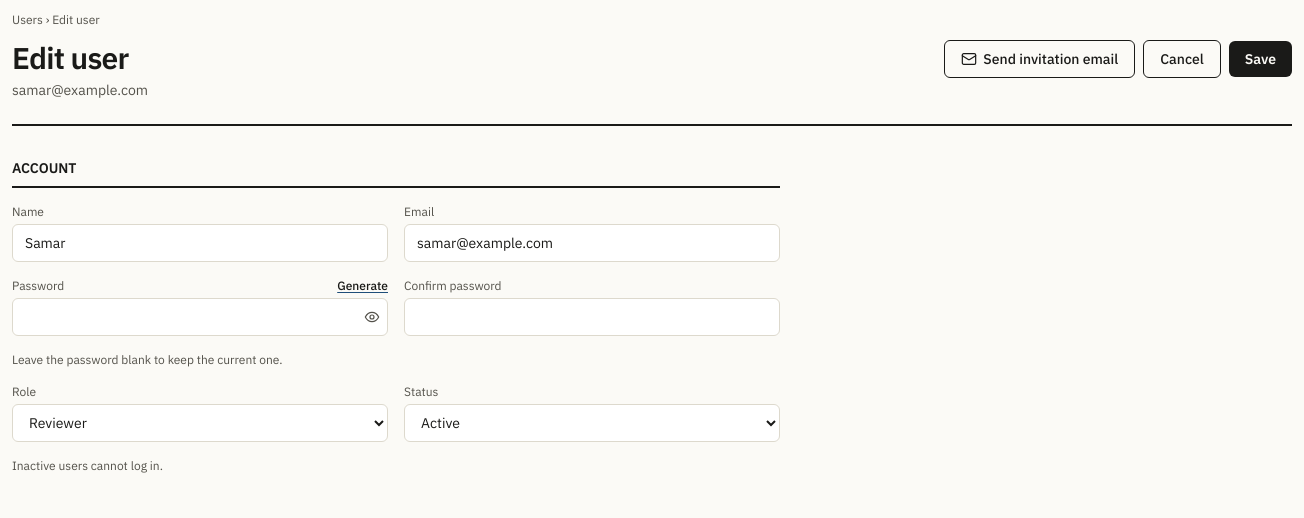
it: UserEditPage › sends a fresh invitation from edit mode and confirms it
The width and height of the screenshot is (1304, 518).
What coordinates should you click on to do the following:
click the button with test id "send-invitation-button"
I would click on:
 (1040, 59)
Its box is [944,40,1135,78].
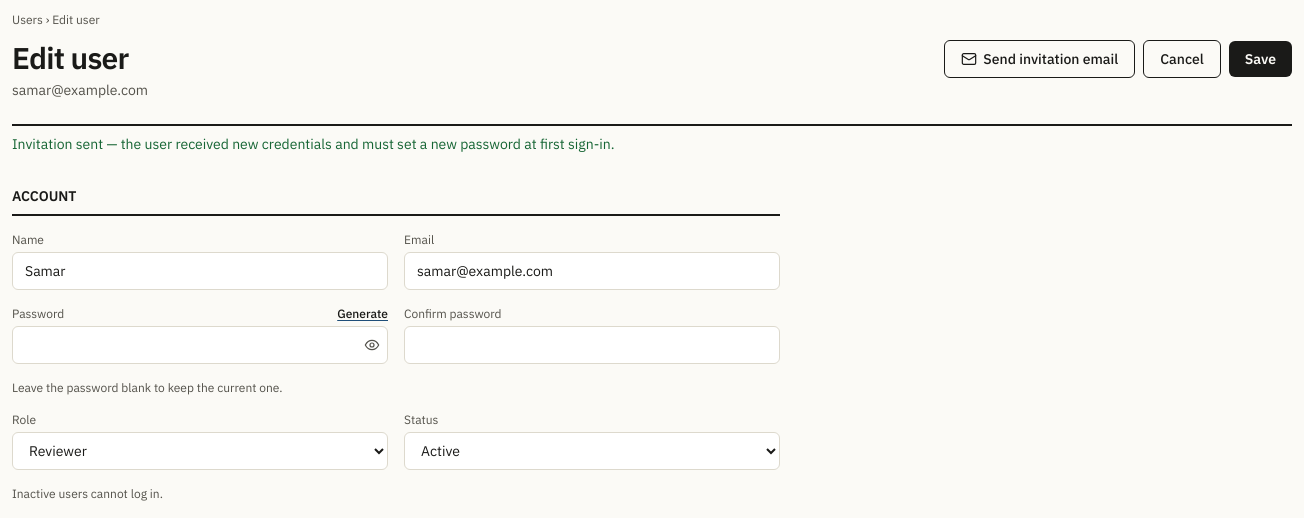
Check: the text with test id "invitation-sent" is shown, box [12,135,614,153]
